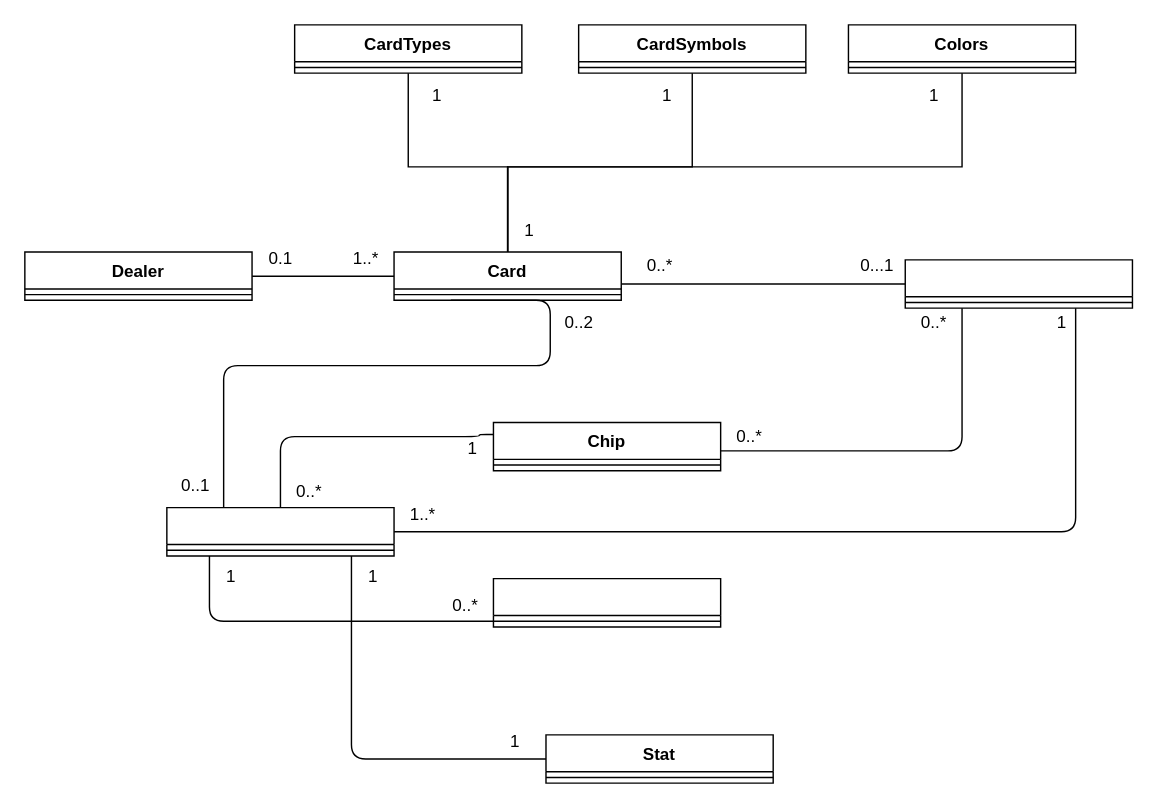
Image size: 1157x808. Some labels were removed from this diagram. Each missing label, with the centre of its shape:
Accessories: pixel 606 602
Player: pixel 279 531
Table: pixel 1018 283
